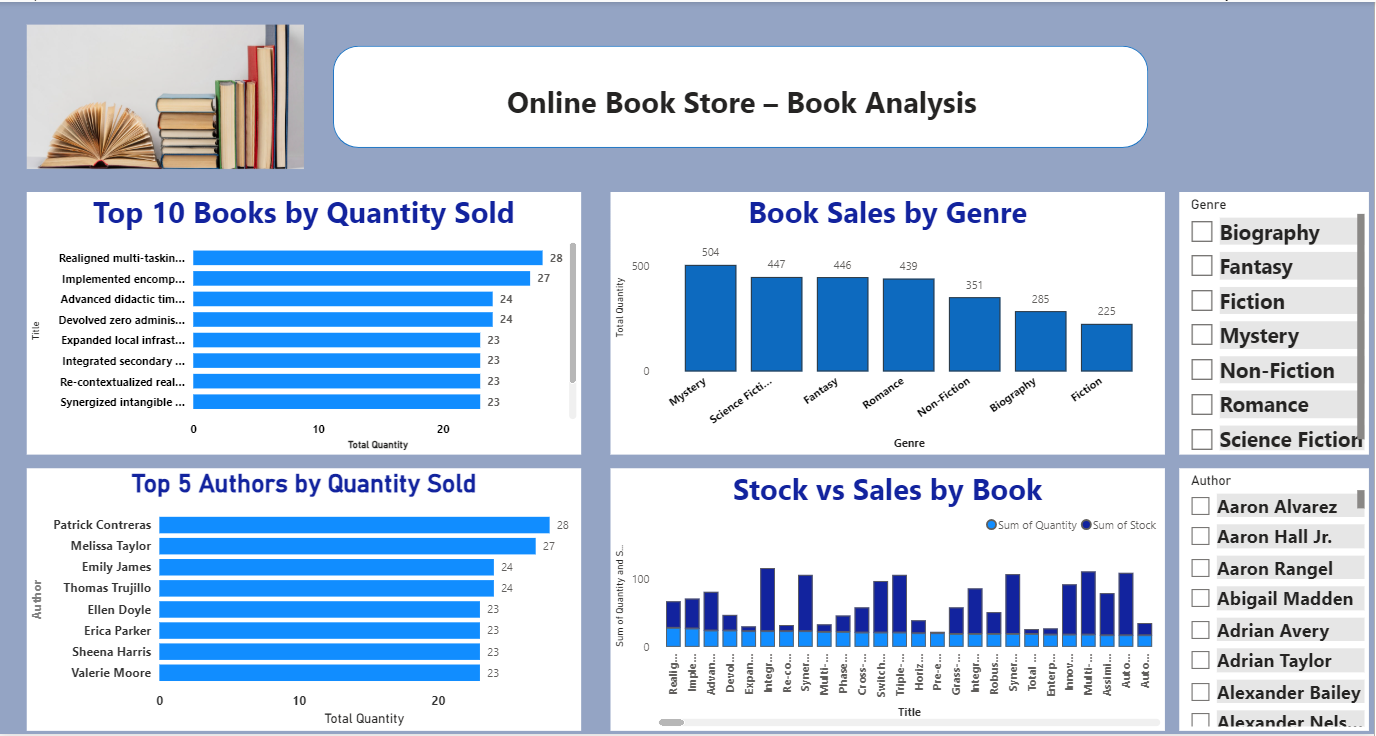

The page's visual inventory and layout, read from the dashboard file:
{"tool":"powerbi","page":{"name":"Book Analysis","canvas":[1509,803],"ordinal":1},"visuals":[{"type":"shape","box":[368,48,894,112],"z":0},{"type":"textbox","box":[480,64,672,80],"z":1000},{"type":"image","box":[32,0,304,208],"z":2000},{"type":"clusteredBarChart","title":"Top 10 Books by Quantity Sold","fields":{"Category":["online_bookstore books.Title"],"Y":["online_bookstore orders.Total Quantity"]},"box":[32,208,608,288],"z":3000},{"type":"clusteredColumnChart","title":"Book Sales by Genre","fields":{"Category":["online_bookstore books.Genre"],"Y":["online_bookstore orders.Total Quantity"]},"box":[672,208,608,288],"z":4000},{"type":"clusteredBarChart","title":"Top 5 Authors by Quantity Sold","fields":{"Category":["online_bookstore books.Author"],"Y":["online_bookstore orders.Total Quantity"]},"box":[32,512,608,288],"z":5000},{"type":"lineStackedColumnComboChart","title":"Stock vs Sales by Book","fields":{"Category":["online_bookstore books.Title"],"Y":["online_bookstore orders.Quantity","online_bookstore books.Stock"]},"box":[672,512,608,288],"z":6000},{"type":"slicer","fields":{"Values":["online_bookstore books.Genre"]},"box":[1296,208,208,288],"z":7000},{"type":"slicer","fields":{"Values":["online_bookstore books.Author"]},"box":[1296,512,208,288],"z":8000}]}

Visuals, with their boxes in screenshot pixels (x1, y1, x2, y2), scaled from the page's 1509x803 canvas onto the 1376x736 screenshot:
shape: <bbox>336, 44, 1151, 147</bbox>
textbox: <bbox>438, 59, 1050, 132</bbox>
image: <bbox>29, 0, 306, 191</bbox>
"Top 10 Books by Quantity Sold" clusteredBarChart: <bbox>29, 191, 584, 455</bbox>
"Book Sales by Genre" clusteredColumnChart: <bbox>613, 191, 1167, 455</bbox>
"Top 5 Authors by Quantity Sold" clusteredBarChart: <bbox>29, 469, 584, 733</bbox>
"Stock vs Sales by Book" lineStackedColumnComboChart: <bbox>613, 469, 1167, 733</bbox>
slicer - online_bookstore books.Genre: <bbox>1182, 191, 1371, 455</bbox>
slicer - online_bookstore books.Author: <bbox>1182, 469, 1371, 733</bbox>
